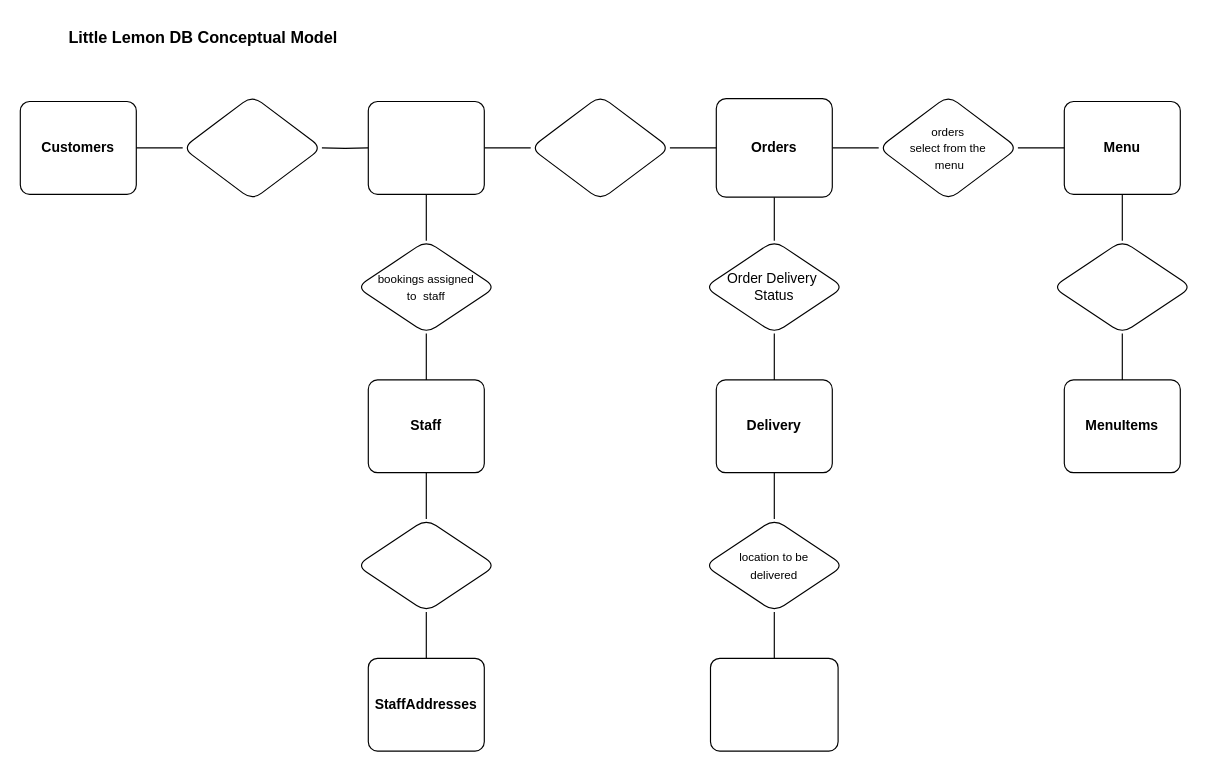
This 1212x771 diagram has some shape labels left out. Here are the shapes that lost their labels. From the top down, the centre of each, then its label:
the point at 252,147: customers make bookings
the point at 425,147: Bookings
the point at 600,147: each booking made makes orders
the point at 1122,287: menu contains menu items
the point at 426,565: contact or locate the staff
the point at 773,704: DeliveryAddress
